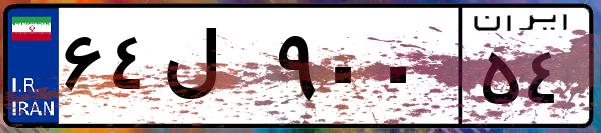0: (385, 28, 445, 110), (330, 28, 385, 110)
4: (525, 38, 570, 115), (110, 28, 158, 98)
5: (475, 38, 525, 113)
6: (57, 26, 110, 100)
9: (270, 28, 330, 110)
ل: (158, 20, 270, 120)
